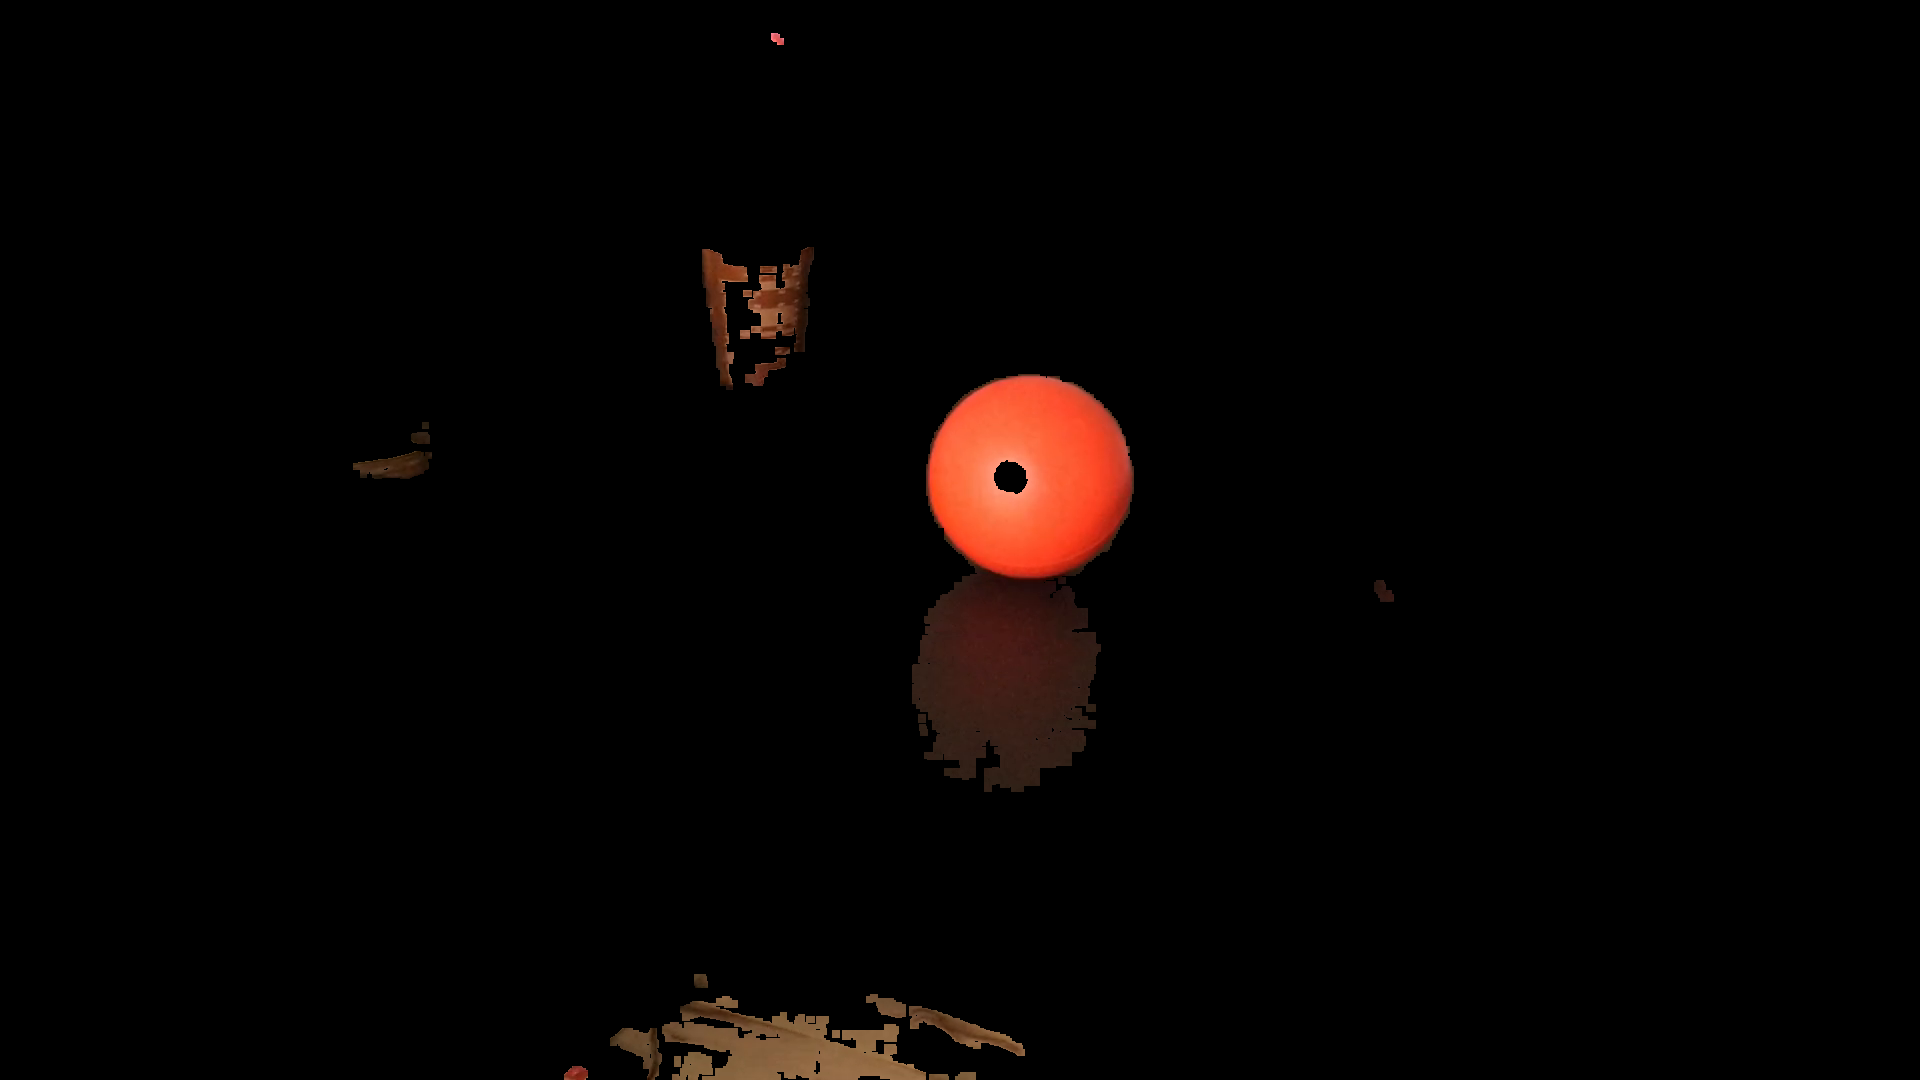Ball: (924, 372, 1137, 579)
